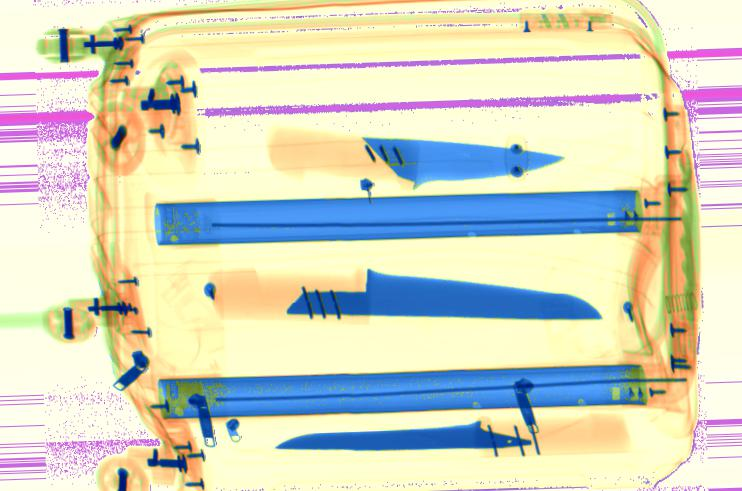Knife: (235, 268, 603, 318), (270, 131, 564, 191), (276, 417, 555, 460)
